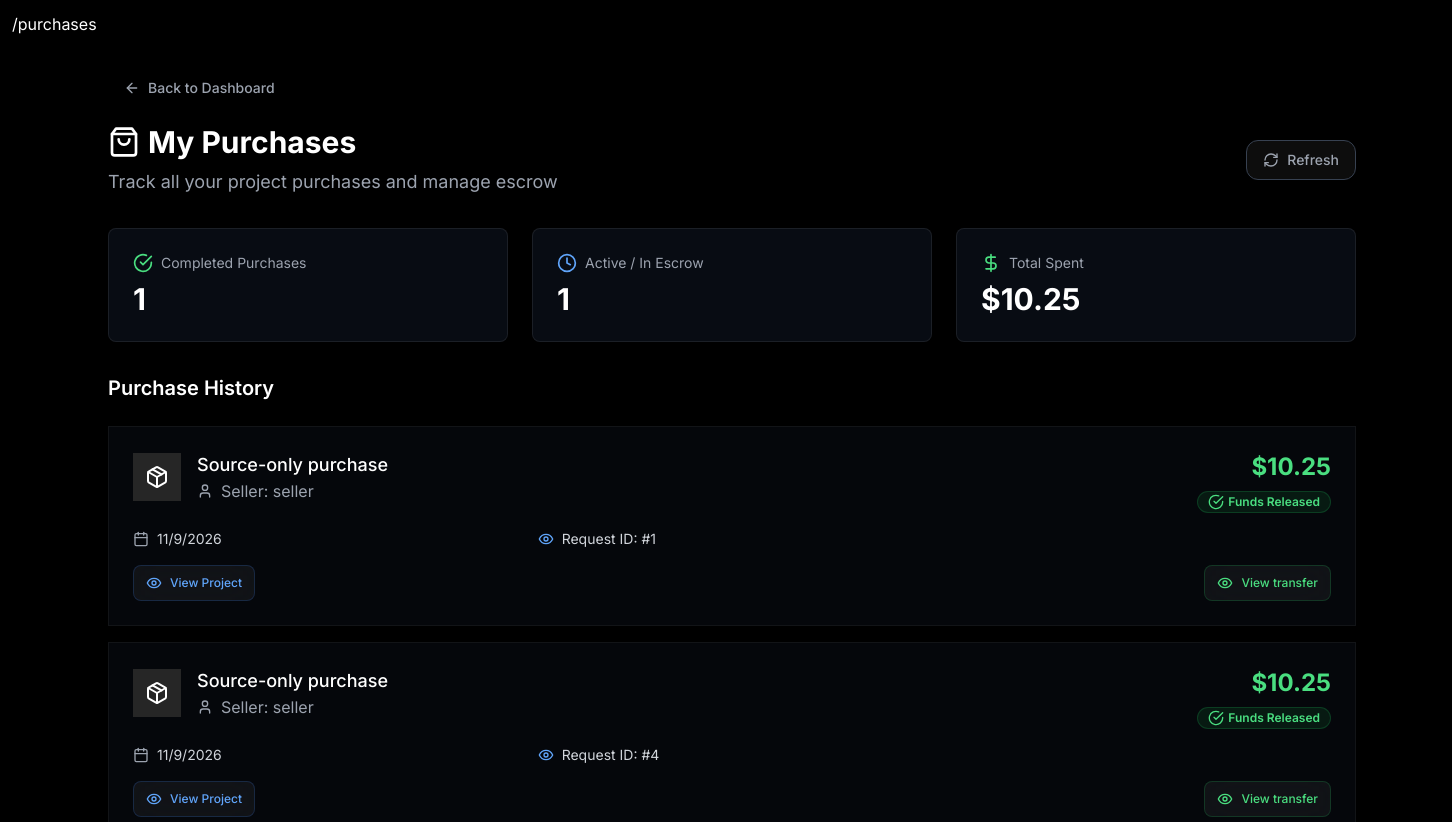
Scenario: purchase statistics use paid transactions, count completed receipts and deduplicate negotiation attempts
What coordinates should you click on to do the following:
click the 1st button "View transfer"
I would click on:
 (1268, 583)
Its box is [1204,565,1331,601].
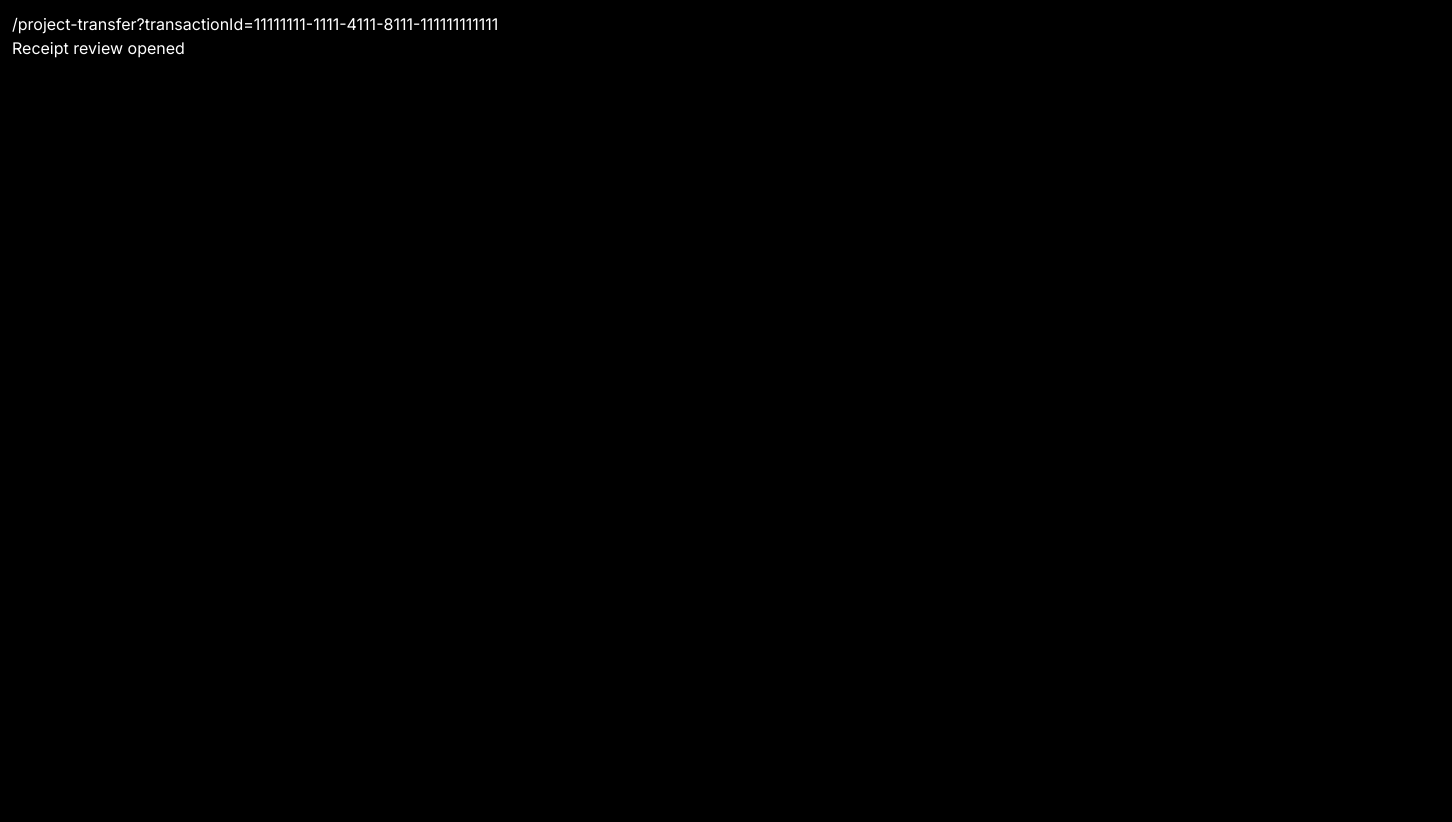
Result: the text "Receipt review opened" is shown at [12,38,185,58]
